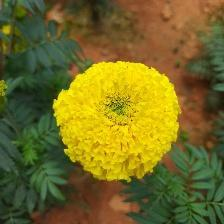marigold: (53, 60, 184, 184)
